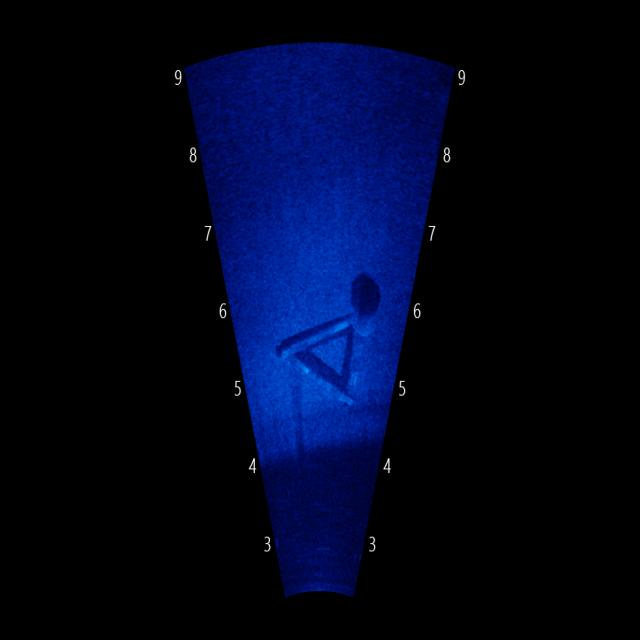triangle: (271, 302, 378, 406)
